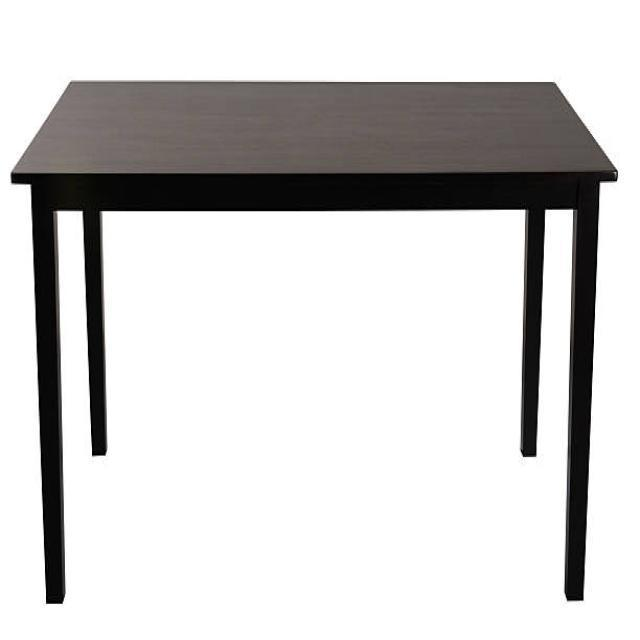table: (10, 78, 618, 606)
